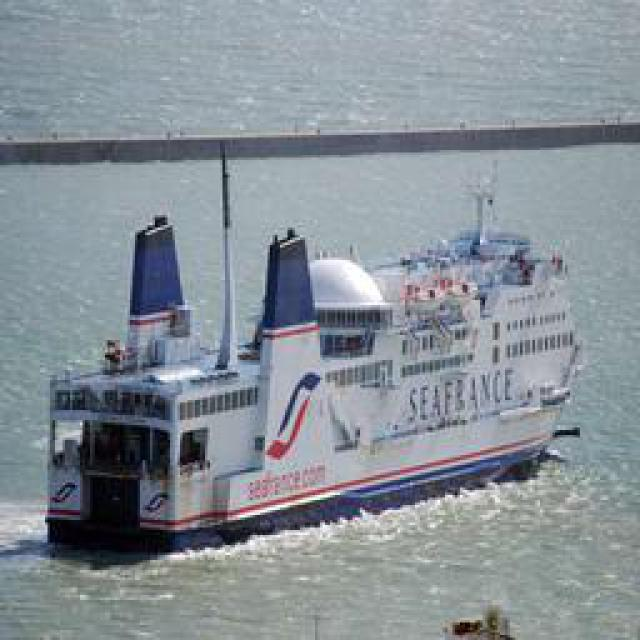Ship: (44, 214, 597, 549)
